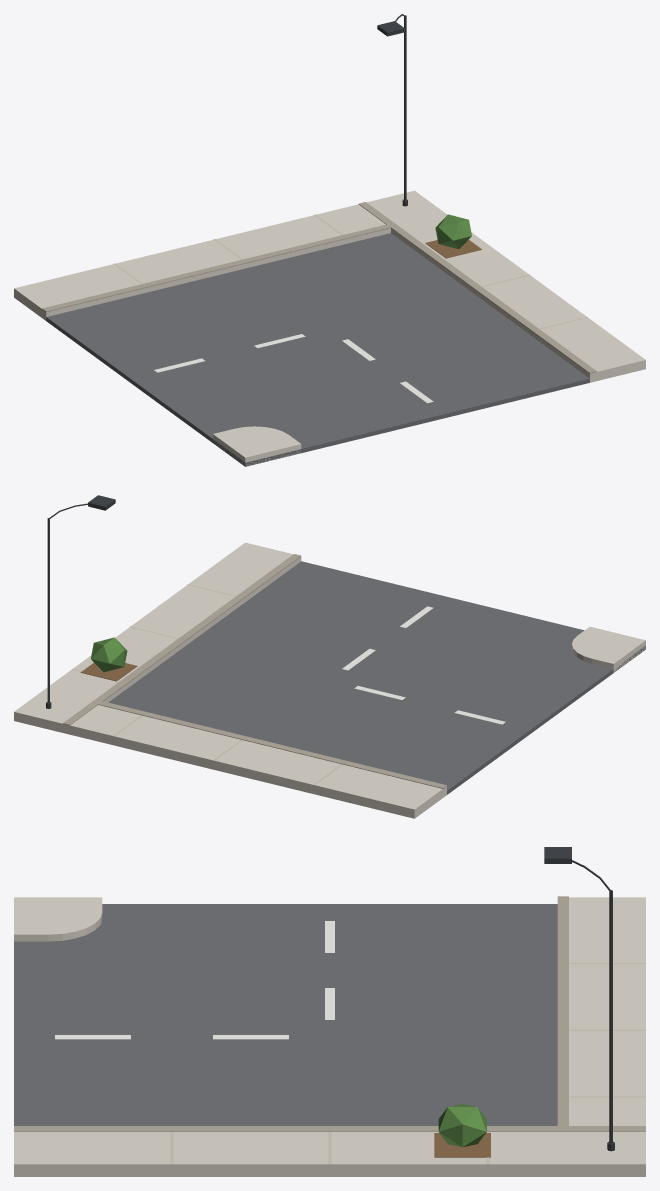
Rendered from Yol_corner_01_Hafif.fbx.
The picture shows the model from 3 angles, top to bottom: view 1: azimuth 30°, elevation 25°; view 2: azimuth 150°, elevation 25°; view 3: azimuth 270°, elevation 25°; orthographic projection. The views are drawn at different scales.
Visible parts, largest first — view 1: Yol_corner_01_Hafif; view 2: Yol_corner_01_Hafif; view 3: Yol_corner_01_Hafif.
Boxes of the visible parts, x1,y1,x2,y2 form: Yol_corner_01_Hafif: [14, 14, 645, 466]; Yol_corner_01_Hafif: [14, 495, 645, 818]; Yol_corner_01_Hafif: [14, 847, 645, 1176].
Bounding box in the file's own units: 10 × 5.01 × 10.
